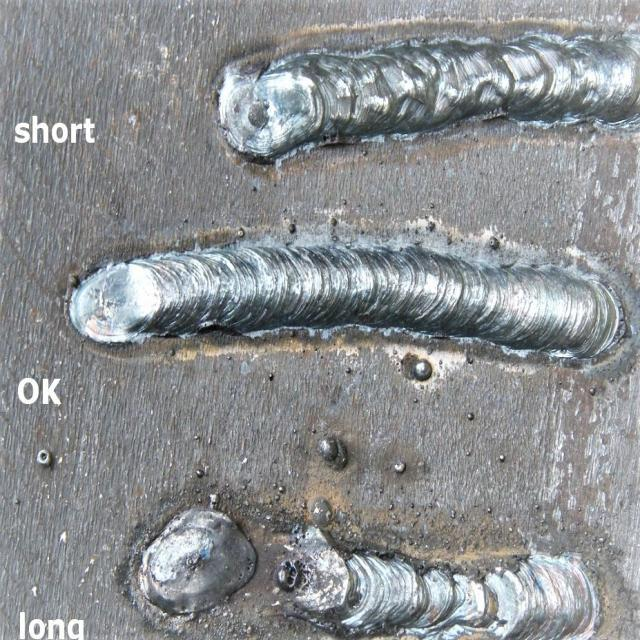Bad Welding: (219, 33, 640, 162), (274, 525, 600, 638), (138, 508, 256, 615)
Good Welding: (69, 246, 622, 358)
